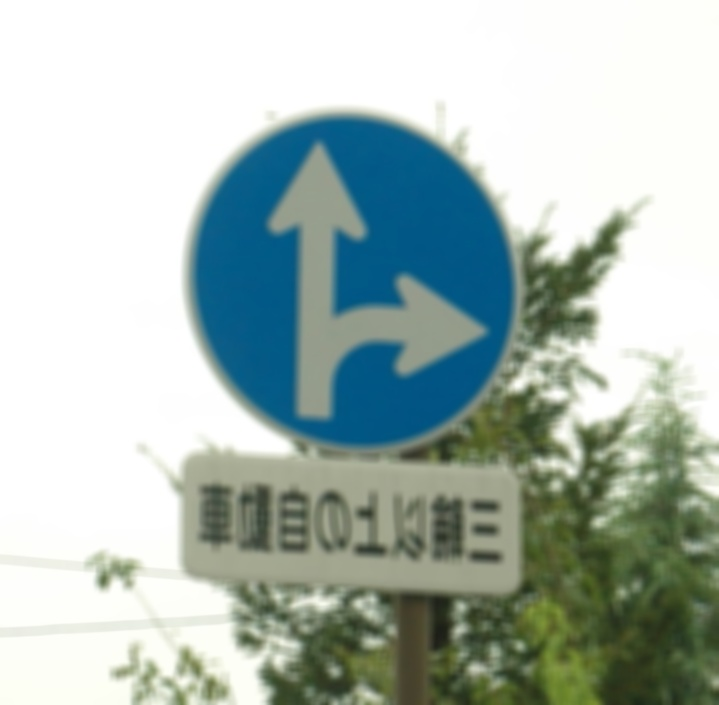Direction_sign: (173, 98, 530, 466)
